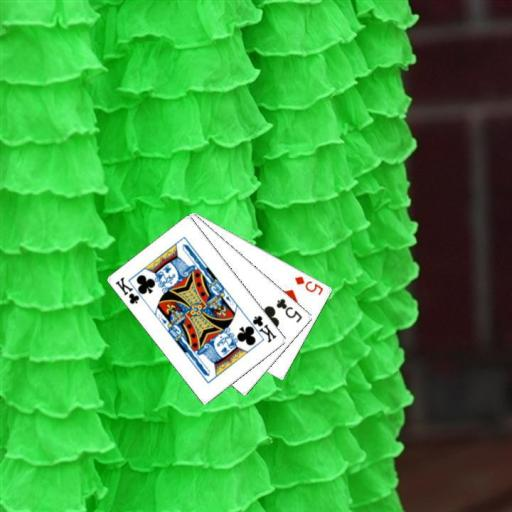5C: (273, 295, 304, 324)
5D: (292, 273, 325, 297)
KC: (113, 274, 148, 306), (244, 312, 278, 344)
